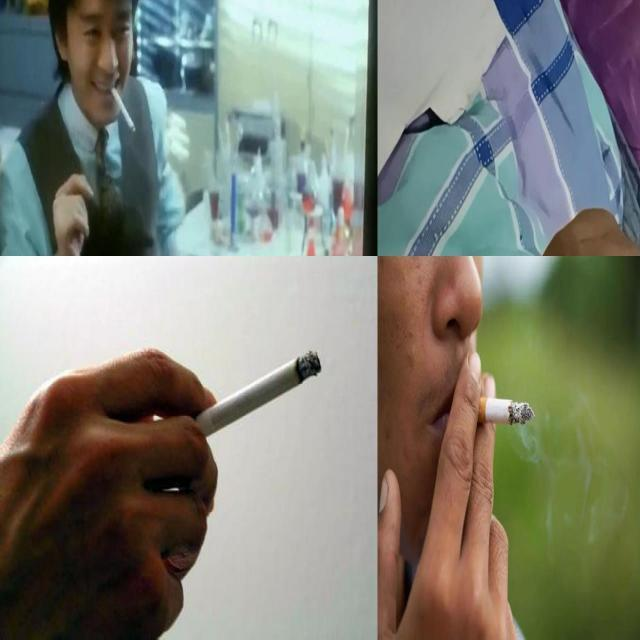cigarette: (175, 348, 322, 448), (452, 394, 534, 426), (110, 85, 137, 134)
